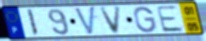9: (46, 8, 71, 36)
E: (154, 5, 185, 33)
G: (133, 5, 157, 34)
I: (26, 8, 41, 37)
V: (98, 5, 123, 35), (73, 6, 97, 37)
